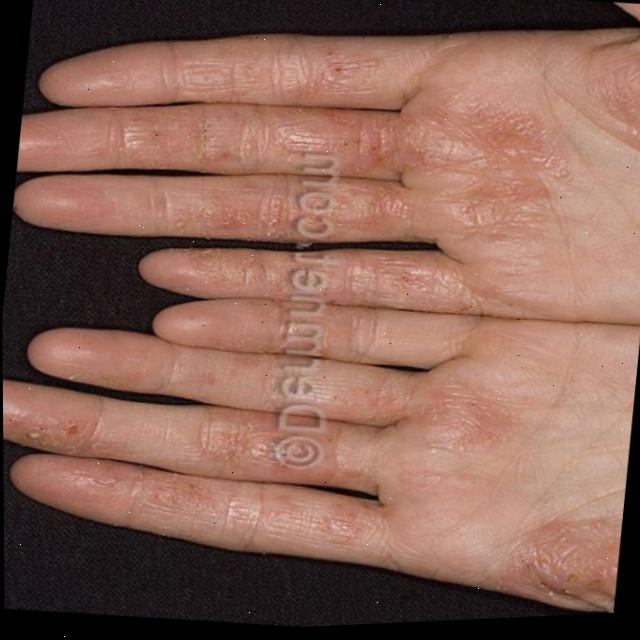Eczema: (46, 0, 530, 536), (480, 475, 626, 619)
